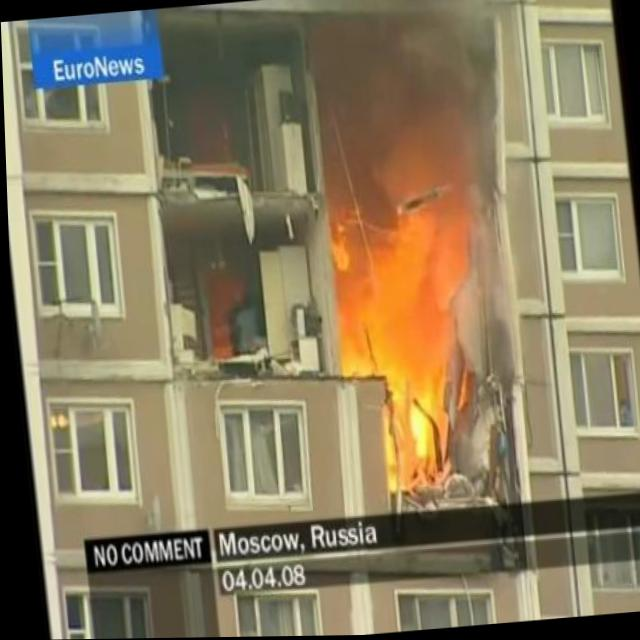fire: (312, 114, 517, 504), (202, 274, 247, 355)
